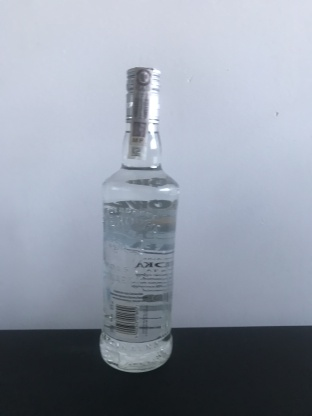nakretka: (123, 63, 163, 128)
